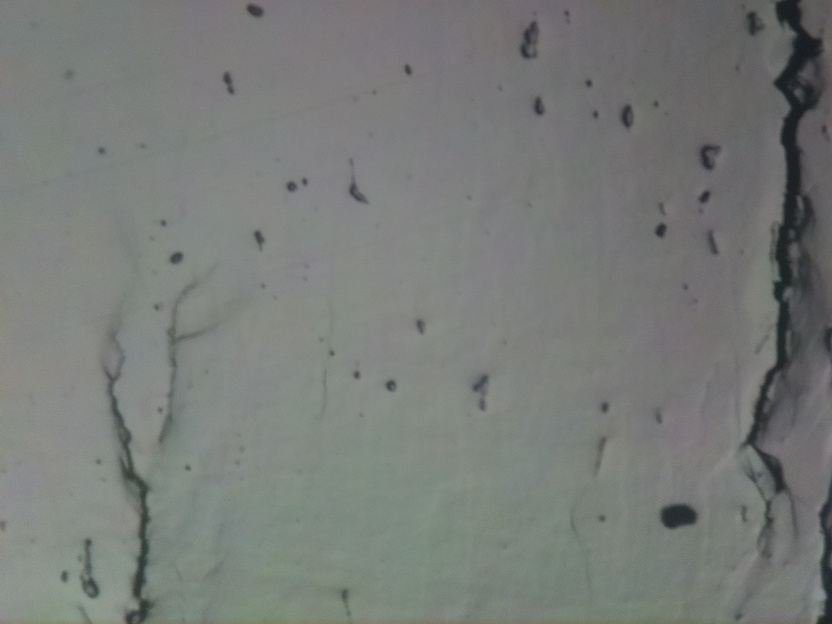crack: (742, 0, 821, 492), (95, 328, 162, 624), (819, 500, 832, 624)
